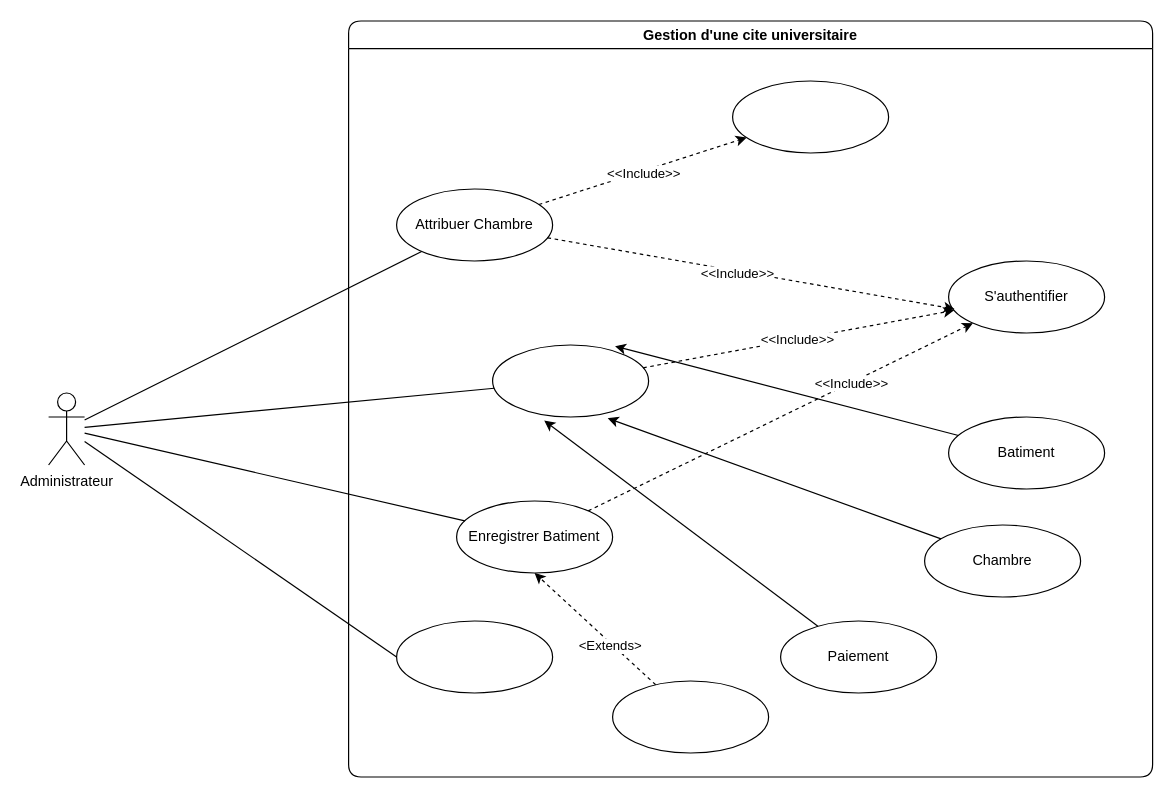
This 1174x798 diagram has some shape labels left out. Here are the shapes that lost their labels. From the top down, the centre of each, then its label:
At (x=810, y=116): "Inserer Etudiants".
At (x=570, y=380): "Consulter Etat".
At (x=474, y=656): "Supprimer Etudiant".
At (x=690, y=716): "Enregistrer Chambre".
